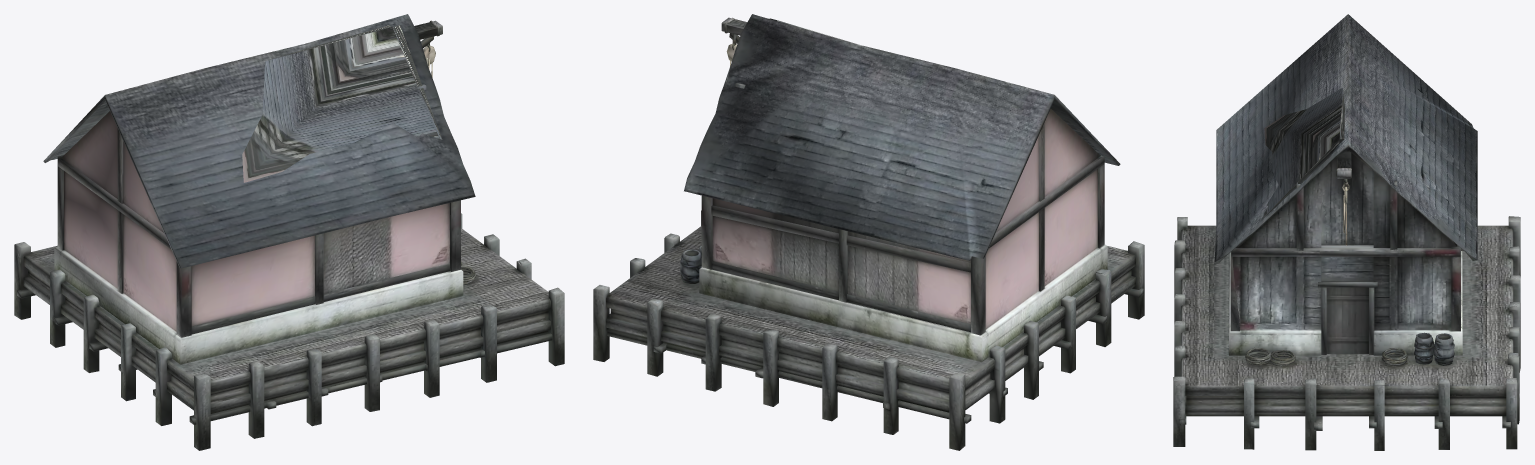
The model's file is warehouse.glb.
The picture shows the model from 3 angles, left to right: view 1: azimuth 30°, elevation 25°; view 2: azimuth 150°, elevation 25°; view 3: azimuth 270°, elevation 25°; orthographic projection. The views are drawn at different scales.
Parts seen in each view (by area): view 1: model; view 2: model; view 3: model.
Part boxes in pixels (x1,y1,x2,y2): model: [14, 14, 564, 450]; model: [593, 14, 1144, 450]; model: [1173, 14, 1520, 450].
Bounding box in the file's own units: 1.33 × 1 × 1.14.
1 material, 1 textured.
